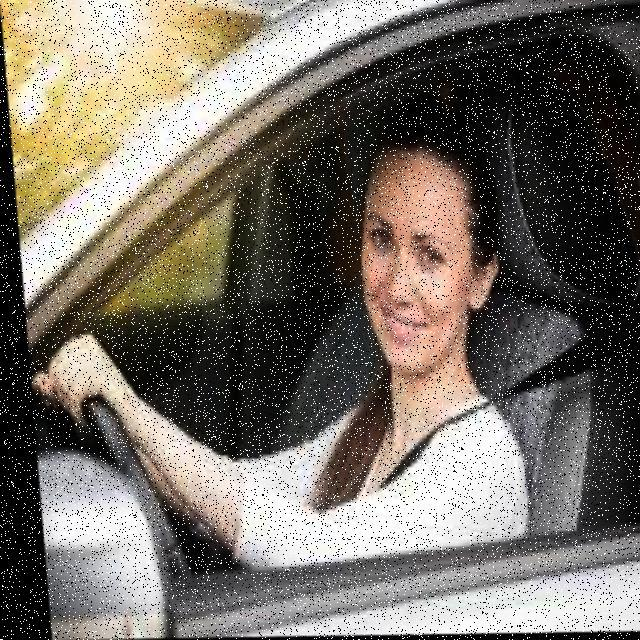seatbelt: (339, 326, 595, 518)
